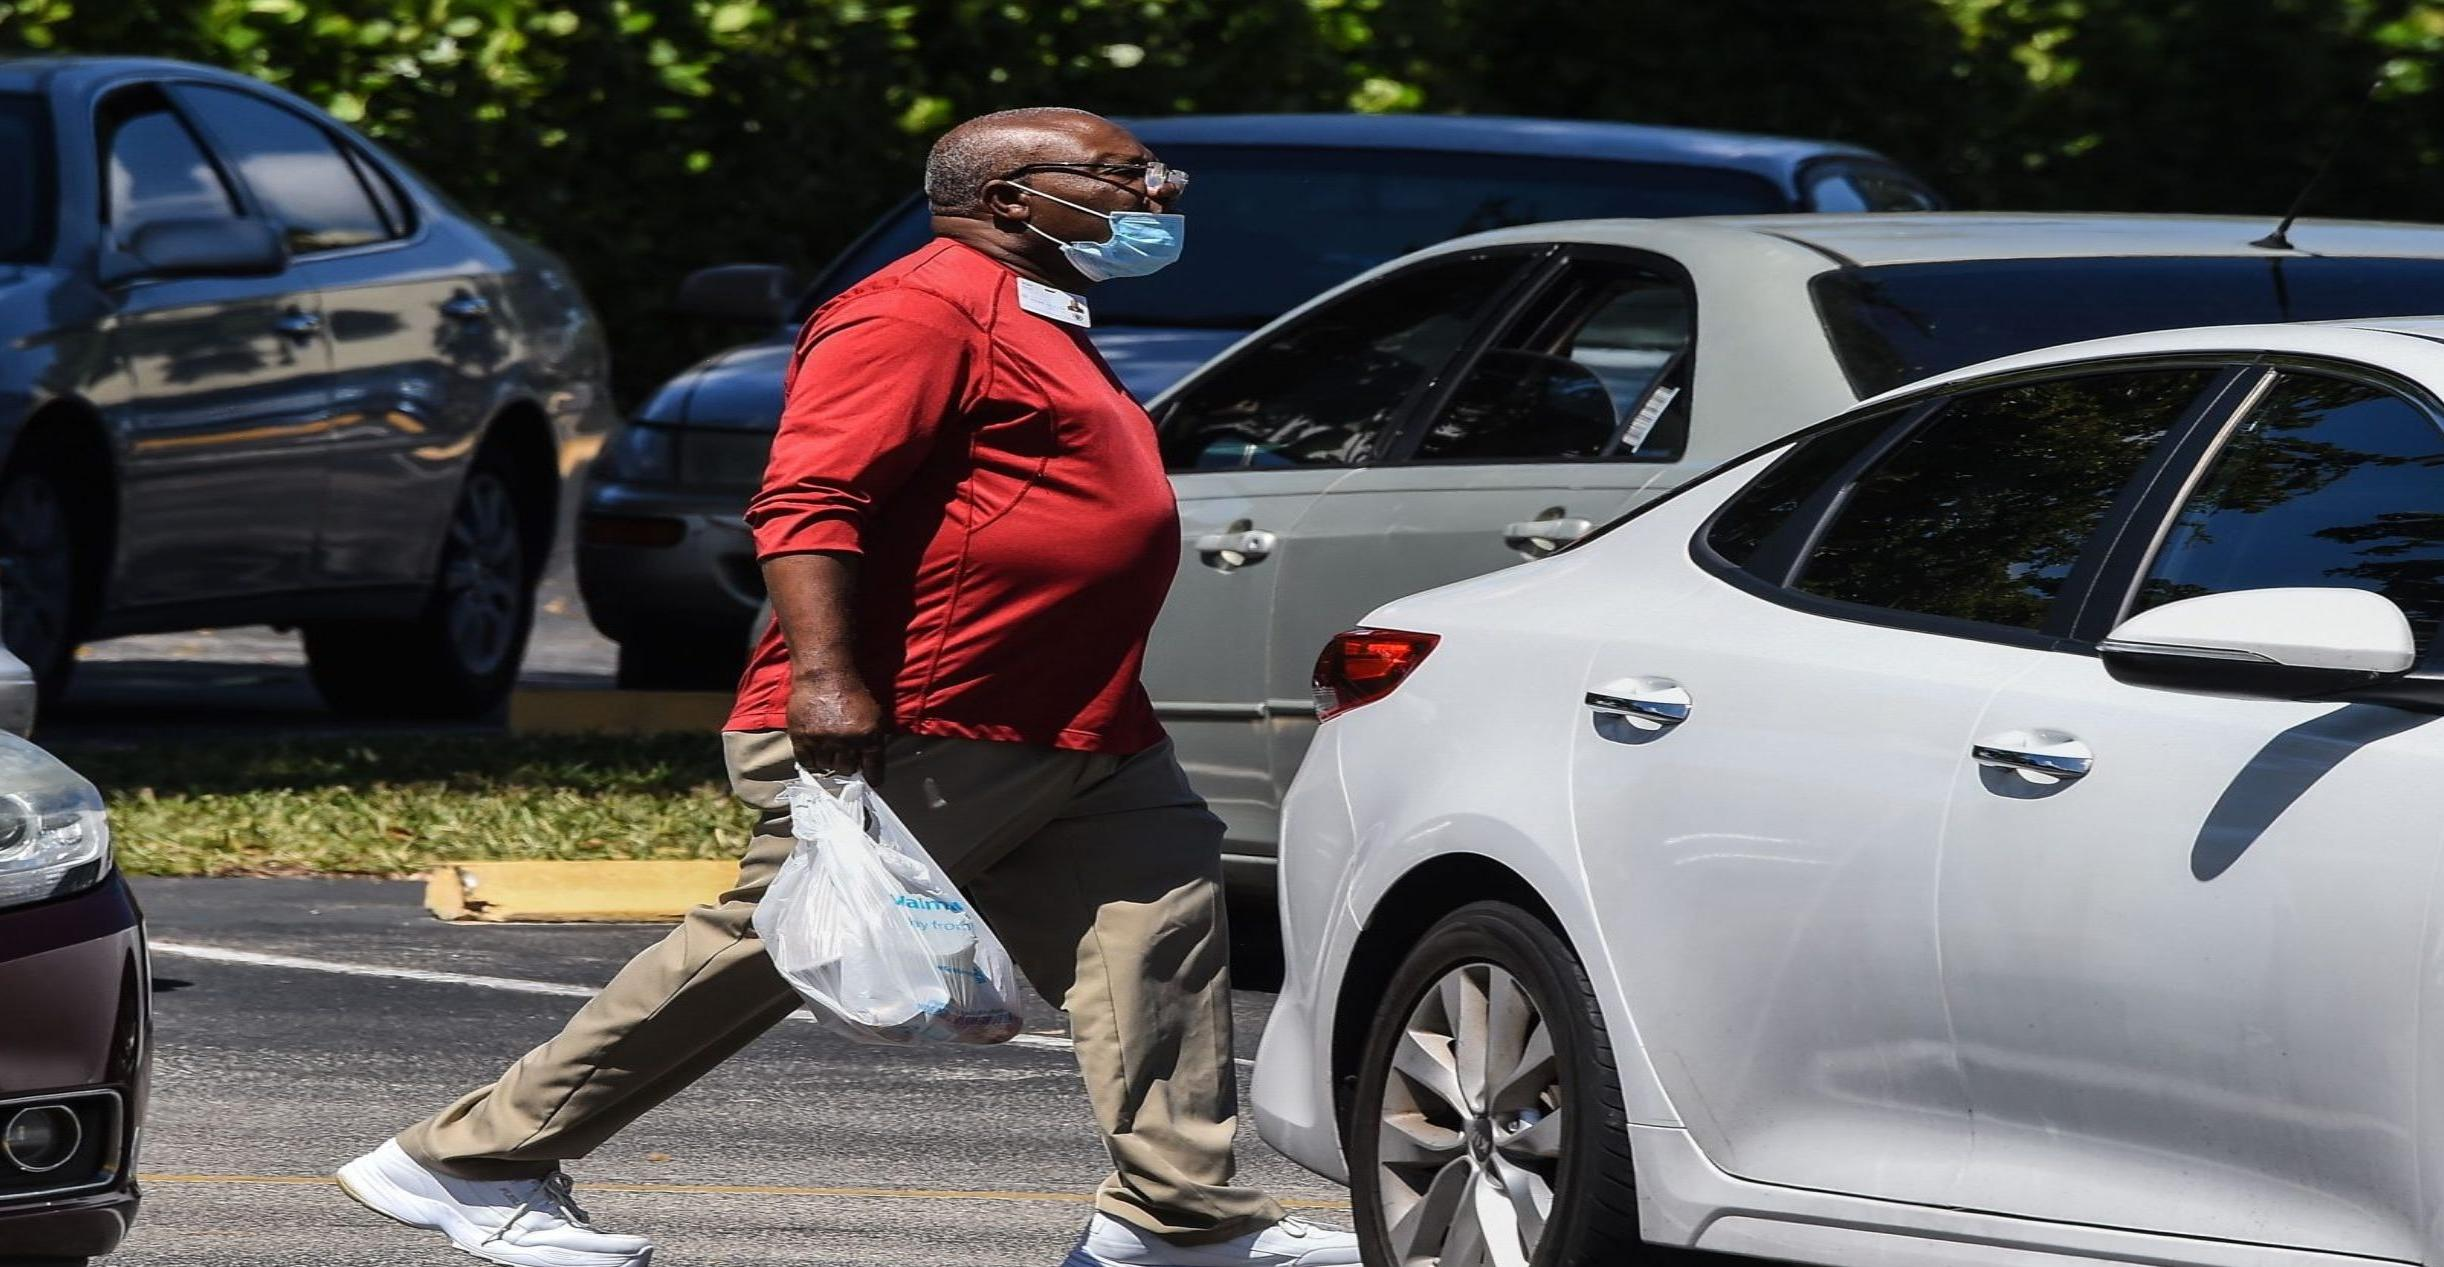mask_weared_incorrect: (957, 98, 1241, 318), (905, 106, 1202, 295)
